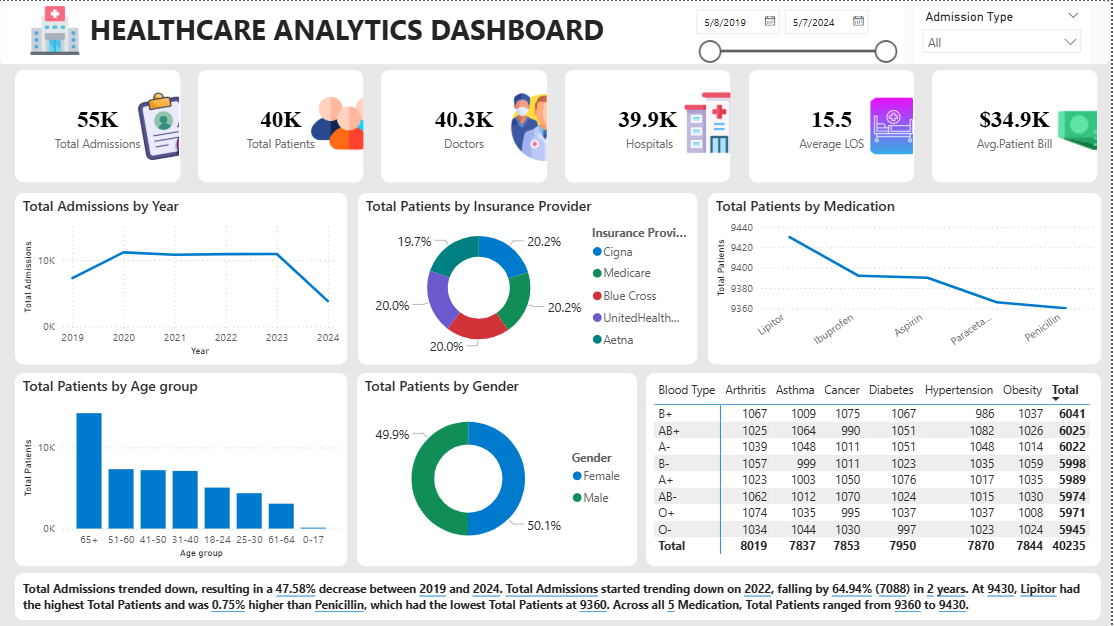

The dashboard page shown, as its layout file describes it:
{"tool":"powerbi","page":{"name":"Page 1","canvas":[1280,720],"ordinal":0},"visuals":[{"type":"shape","box":[0,0,1280.5,72.9],"z":0},{"type":"card","fields":{"Values":["healthcare_dataset.Total Admissions"]},"box":[20.7,79.3,189.7,128.7],"z":1000},{"type":"lineChart","fields":{"Category":["DateTable.Date.Variation.Date Hierarchy.Year"],"Y":["healthcare_dataset.Total Admissions"]},"box":[20.7,220.7,381.6,196.6],"z":2000},{"type":"card","fields":{"Values":["healthcare_dataset.Total Patients"]},"box":[230.9,79.7,190.3,128.7],"z":3000},{"type":"columnChart","fields":{"Category":["healthcare_dataset.Age group"],"Y":["healthcare_dataset.Total Patients"]},"box":[20.7,427.6,381.6,221.8],"z":4000},{"type":"donutChart","fields":{"Category":["healthcare_dataset.Gender"],"Y":["healthcare_dataset.Total Patients"]},"box":[413.8,427.6,321.8,221.8],"z":5000},{"type":"slicer","fields":{"Values":["DateTable.Date"]},"box":[790.8,0,251.7,72.4],"z":6000},{"type":"card","fields":{"Values":["Avg(healthcare_dataset.LengthOfStay)"]},"box":[863.9,79.7,190.3,128.7],"z":7000},{"type":"donutChart","fields":{"Category":["healthcare_dataset.Insurance Provider"],"Y":["healthcare_dataset.Total Patients"]},"box":[414.9,220.7,389.7,196.6],"z":8000},{"type":"card","fields":{"Values":["Count(healthcare_dataset.Hospital)"]},"box":[653.1,79.7,190.3,128.7],"z":9000},{"type":"card","fields":{"Values":["Count(healthcare_dataset.Doctor)"]},"box":[441.7,79.3,190.8,128.7],"z":10000},{"type":"pivotTable","fields":{"Rows":["healthcare_dataset.Blood Type"],"Values":["healthcare_dataset.Total Patients"],"Columns":["healthcare_dataset.Medical Condition"]},"box":[746,427.6,523,221.8],"z":11000},{"type":"lineChart","fields":{"Y":["healthcare_dataset.Total Patients"],"Category":["healthcare_dataset.Medication"]},"box":[817.2,220.7,451.7,196.6],"z":12000},{"type":"card","fields":{"Values":["healthcare_dataset.B/P"]},"box":[1074.7,79.3,189.7,128.7],"z":13000},{"type":"slicer","fields":{"Values":["healthcare_dataset.Admission Type"]},"box":[1054,4.6,202.3,67.8],"z":14000},{"type":"textbox","box":[20.7,657.5,1248.3,54],"z":15000},{"type":"image","box":[577,98.9,67.8,89.7],"z":16000},{"type":"image","box":[140.2,98.9,89.7,89.7],"z":17000},{"type":"image","box":[355.2,92,72.4,96.6],"z":18000},{"type":"image","box":[784.4,98.2,64.4,97.1],"z":19000},{"type":"image","box":[998.9,101.1,58.6,85.1],"z":20000},{"type":"image","box":[1209.9,91.1,59.2,110.5],"z":21000},{"type":"textbox","box":[4.6,4.6,795.4,67.8],"z":22000},{"type":"image","box":[4.6,0,124.1,67.8],"z":23000}]}

Visuals, with their boxes in screenshot pixels (x1, y1, x2, y2), scaled from the page's 1280x720 canvas onto the 1114x626 screenshot:
shape: bbox(0, 0, 1113, 63)
card - healthcare_dataset.Total Admissions: bbox(18, 69, 183, 181)
lineChart - DateTable.Date.Variation.Date Hierarchy.Year x healthcare_dataset.Total Admissions: bbox(18, 192, 350, 363)
card - healthcare_dataset.Total Patients: bbox(201, 69, 367, 181)
columnChart - healthcare_dataset.Age group x healthcare_dataset.Total Patients: bbox(18, 372, 350, 565)
donutChart - healthcare_dataset.Gender x healthcare_dataset.Total Patients: bbox(360, 372, 640, 565)
slicer - DateTable.Date: bbox(688, 0, 907, 63)
card - Avg(healthcare_dataset.LengthOfStay): bbox(752, 69, 917, 181)
donutChart - healthcare_dataset.Insurance Provider x healthcare_dataset.Total Patients: bbox(361, 192, 700, 363)
card - Count(healthcare_dataset.Hospital): bbox(568, 69, 734, 181)
card - Count(healthcare_dataset.Doctor): bbox(384, 69, 550, 181)
pivotTable - healthcare_dataset.Blood Type x healthcare_dataset.Total Patients: bbox(649, 372, 1104, 565)
lineChart - healthcare_dataset.Total Patients x healthcare_dataset.Medication: bbox(711, 192, 1104, 363)
card - healthcare_dataset.B/P: bbox(935, 69, 1100, 181)
slicer - healthcare_dataset.Admission Type: bbox(917, 4, 1093, 63)
textbox: bbox(18, 572, 1104, 619)
image: bbox(502, 86, 561, 164)
image: bbox(122, 86, 200, 164)
image: bbox(309, 80, 372, 164)
image: bbox(683, 85, 739, 170)
image: bbox(869, 88, 920, 162)
image: bbox(1053, 79, 1105, 175)
textbox: bbox(4, 4, 696, 63)
image: bbox(4, 0, 112, 59)
